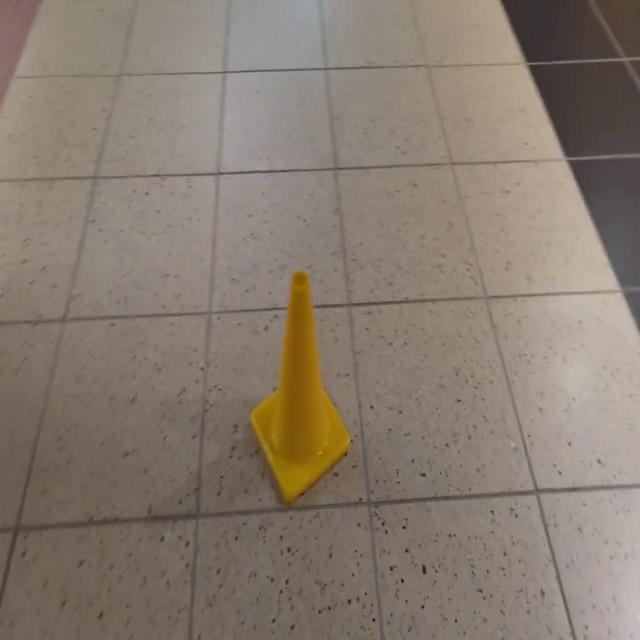frc_cone: (250, 269, 352, 505)
